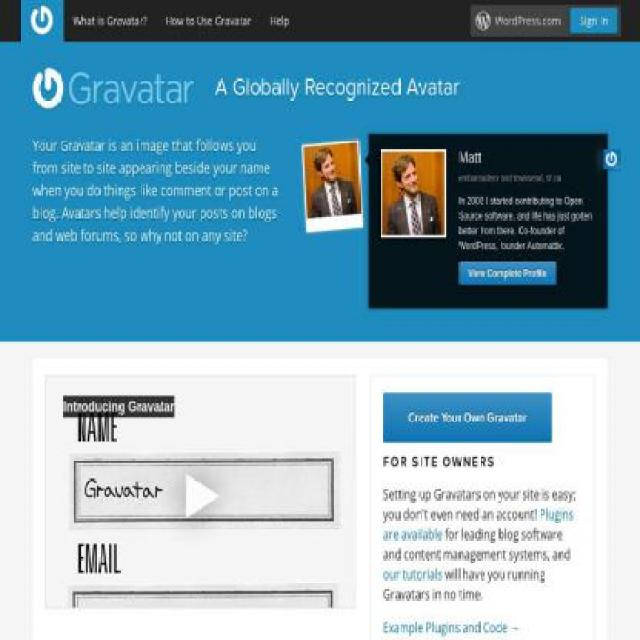button: (156, 0, 261, 42), (383, 618, 582, 638), (64, 0, 156, 42), (310, 152, 355, 226), (458, 262, 557, 284), (19, 0, 64, 42), (590, 134, 622, 184), (261, 0, 299, 42), (570, 7, 618, 35)
field: (383, 392, 552, 443)
